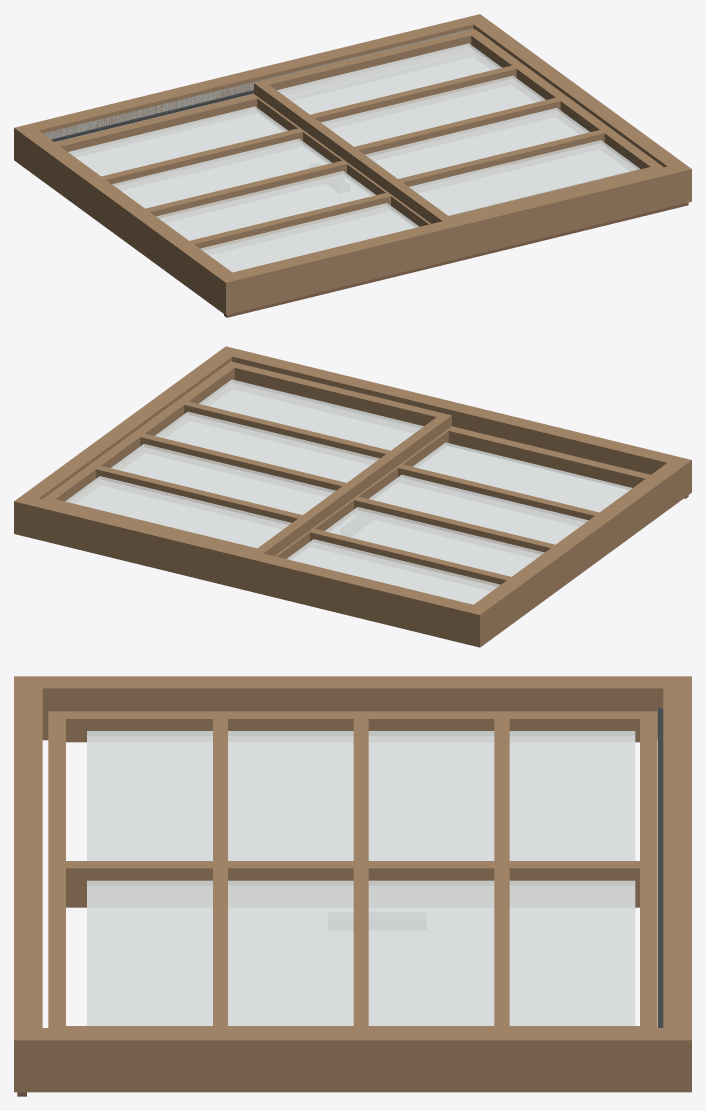
Rendered from frosted-sliding-door.glb.
3 renders of one model, top to bottom at view 1: azimuth 30°, elevation 25°; view 2: azimuth 150°, elevation 25°; view 3: azimuth 270°, elevation 25°, orthographic. The views are drawn at different scales.
Visible parts, largest first — view 1: outer-top, outer-left, outer-bottom, frost-1-3, frost-1-0, frost-1-1, frost-1-2, frost-0-1, frost-0-0, frost-0-2, frost-0-3, outer-right (+15 smaller); view 2: outer-bottom, outer-left, outer-top, frost-1-0, frost-1-2, frost-1-3, frost-1-1, frost-0-3, frost-0-1, frost-0-2, frost-0-0, leaf1-top (+12 smaller); view 3: outer-right, outer-left, frost-1-0, frost-1-1, frost-1-2, frost-1-3, frost-0-0, frost-0-1, frost-0-2, frost-0-3, outer-top, outer-bottom (+14 smaller).
Part boxes in pixels (x1,y1,x2,y2): outer-top: (217, 162, 691, 315); outer-left: (23, 130, 231, 308); outer-bottom: (14, 14, 488, 166); frost-1-3: (409, 140, 639, 215); frost-1-0: (277, 43, 501, 114); frost-1-1: (321, 75, 545, 146); frost-1-2: (365, 108, 589, 178); frost-0-1: (112, 138, 331, 208); frost-0-0: (68, 106, 287, 176); frost-0-2: (156, 171, 375, 240); frost-0-3: (200, 203, 419, 272); outer-right: (473, 20, 682, 166); outer-bottom: (14, 495, 488, 647); outer-left: (474, 463, 682, 640); outer-top: (217, 346, 691, 498); frost-1-0: (65, 476, 291, 548); frost-1-2: (155, 411, 379, 482); frost-1-3: (199, 379, 423, 450); frost-1-1: (111, 444, 335, 514); frost-0-3: (412, 442, 632, 512); frost-0-1: (324, 507, 544, 576); frost-0-2: (369, 474, 588, 544); frost-0-0: (287, 539, 500, 604); leaf1-top: (225, 361, 451, 429); outer-right: (42, 1028, 663, 1092); outer-left: (42, 676, 663, 740); frost-1-0: (509, 880, 635, 1025); frost-1-1: (368, 880, 494, 1025); frost-1-2: (228, 880, 353, 1025); frost-1-3: (87, 880, 212, 1025); frost-0-0: (509, 731, 635, 860); frost-0-1: (368, 731, 494, 860); frost-0-2: (228, 731, 353, 860); frost-0-3: (87, 731, 212, 860); outer-top: (14, 676, 42, 1092); outer-bottom: (663, 676, 691, 1092).
Size of the model in its own units: 3.15 by 0.236 by 2.48.
